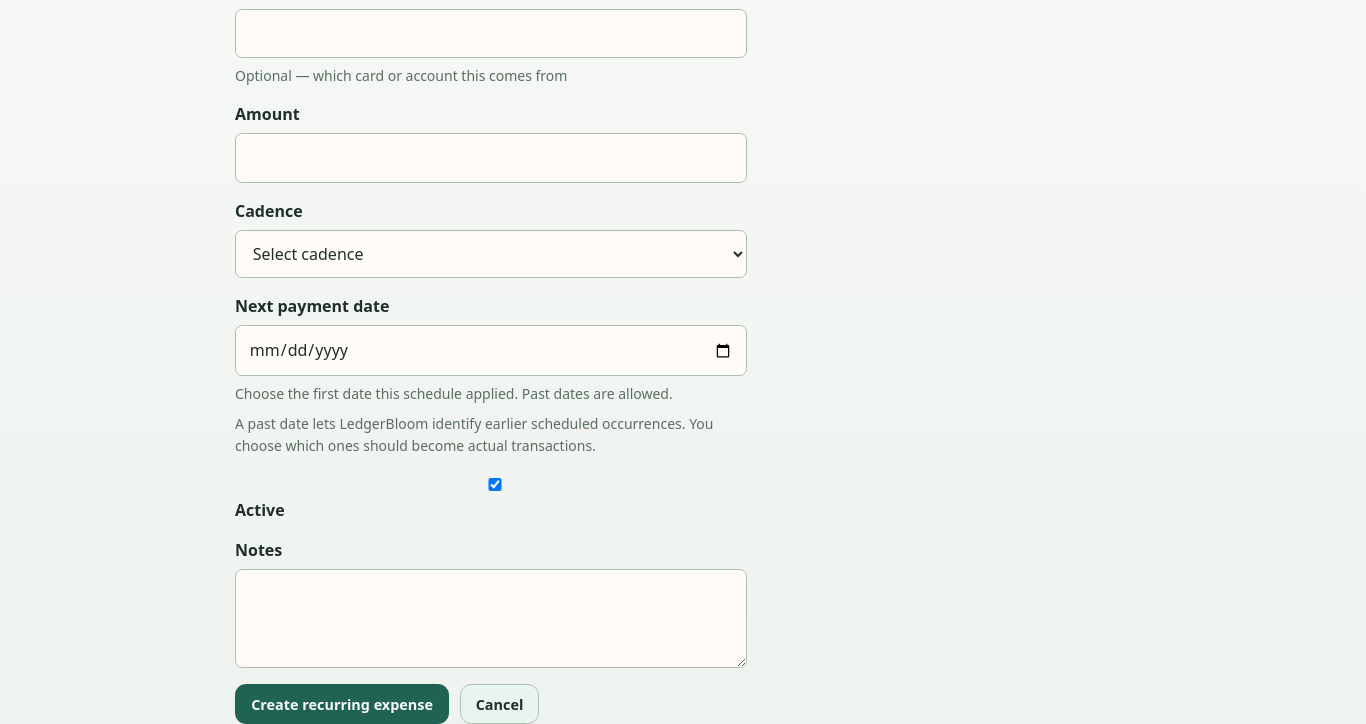
RecurringFormPage › validates required fields
This screenshot has width=1366, height=724.
(page scrolled)
Expected: the field labelled "Payment source" is shown, [235,9,747,58]
Click the button "Create recurring expense" at (342, 704), box [235,684,449,723]
(page scrolled)
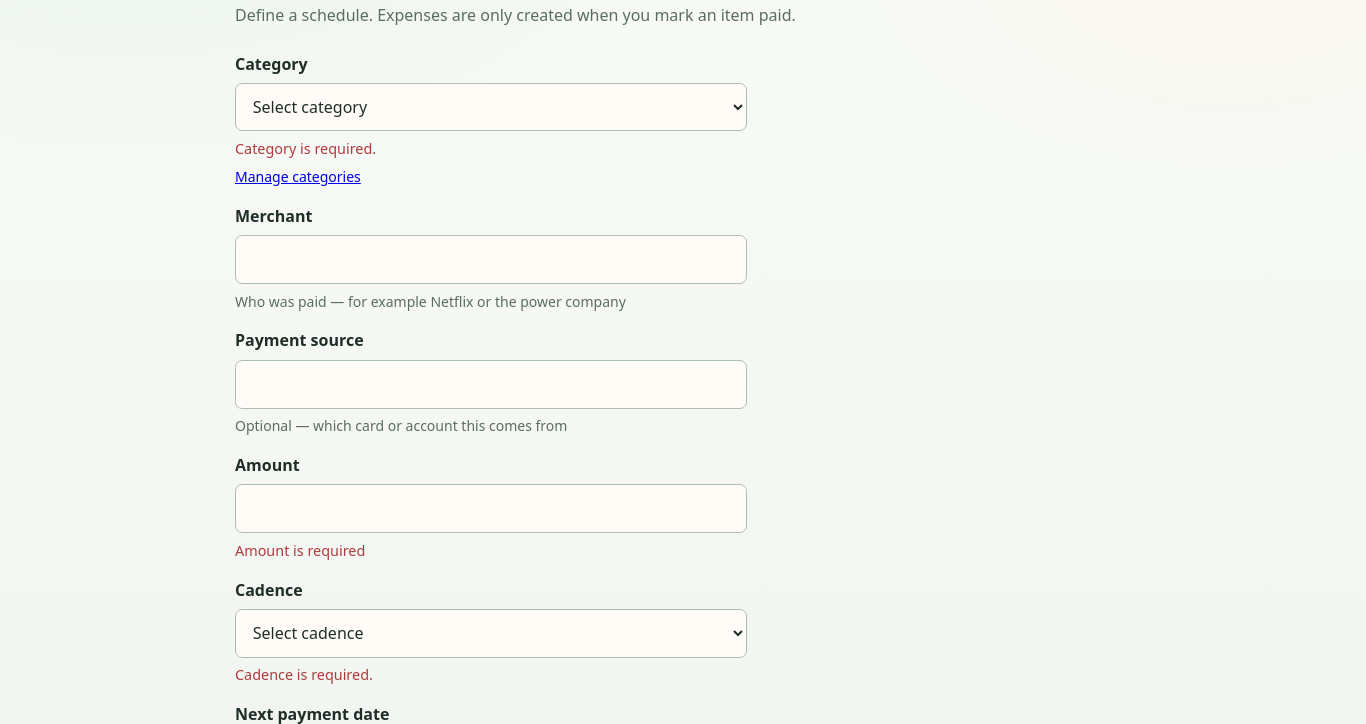
Now the text "Category is required." is shown, box [235,139,376,158]
